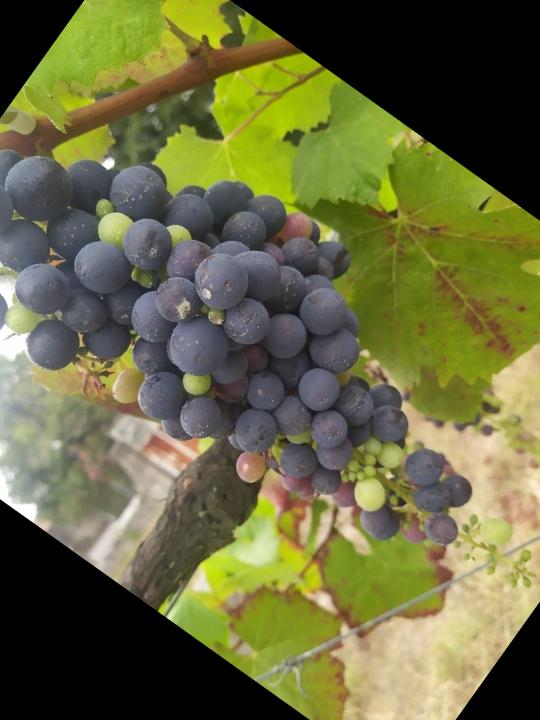grape: (0, 40, 540, 692)
